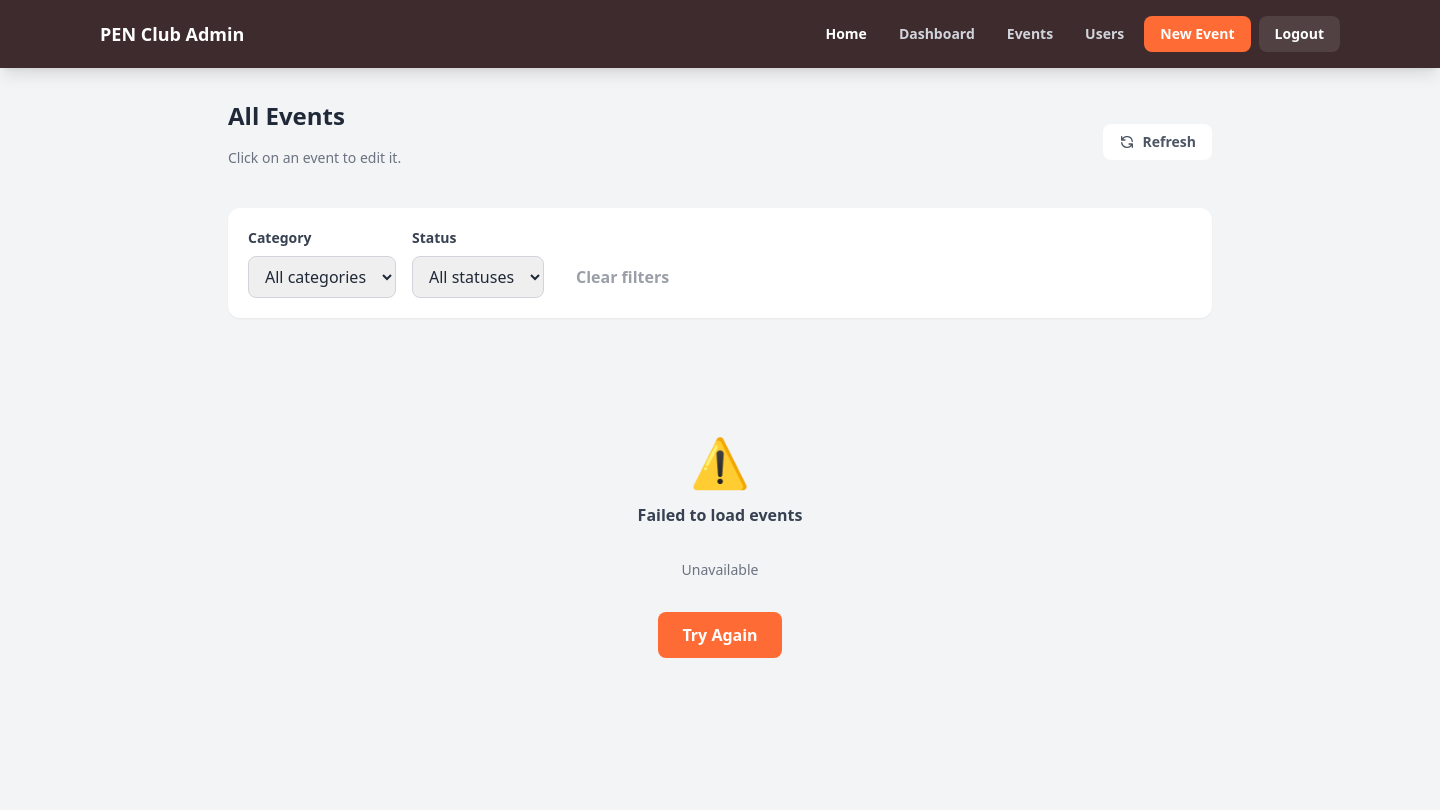
AdminEvents › AdminEvents retries load failures
Expected: the text "Unavailable" is shown, [682,560,758,580]
Click the button "Try Again" at (720, 635), box [658,612,782,658]
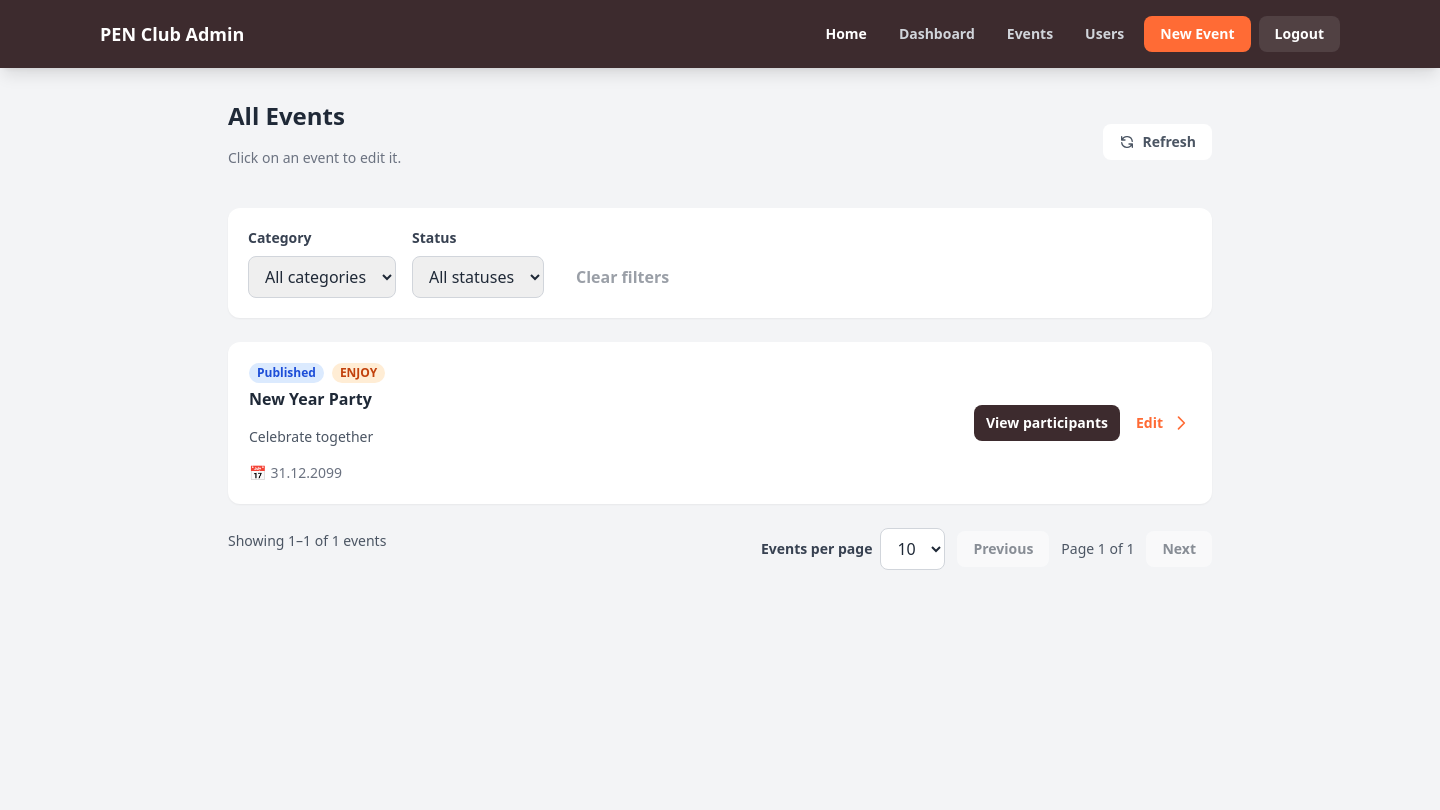
Result: the heading "New Year Party" is shown at [249,388,372,410]
